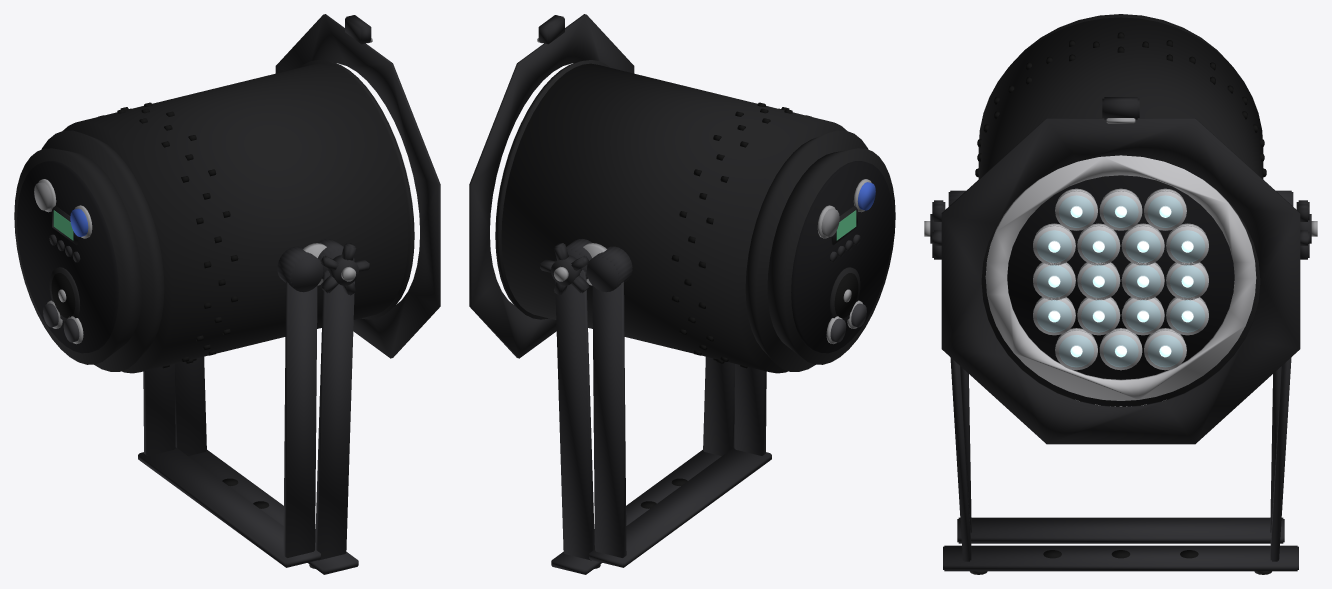
The picture shows the model from 3 angles, left to right: view 1: azimuth 30°, elevation 25°; view 2: azimuth 150°, elevation 25°; view 3: azimuth 270°, elevation 25°; orthographic projection. The views are drawn at different scales.
Parts seen in each view (by area): view 1: CX_Barrel, CX_YokeInner, CX_YokeOuter, CX_GelFrame, CX_RearPlate, CX_RearCap, CX_RearNeck, CX_FrontLip, CX_FanDark, CX_GelClip; view 2: CX_Barrel, CX_YokeInner, CX_YokeOuter, CX_GelFrame, CX_RearPlate, CX_RearCap, CX_RearNeck, CX_FrontLip, CX_FanDark, CX_GelClip; view 3: CX_GelFrame, CX_Barrel, CX_ChromeRing, CX_YokeOuter, CX_LedPlate, CX_YokeInner, CX_FrontLip, CX_CupRim_4, CX_CupRim_5, CX_CupRim_15, CX_CupRim_17, CX_CupRim_0 (+33 smaller).
Part boxes in pixels (box(x1,y1,x2,y2)): CX_Barrel: box(63, 63, 408, 373); CX_YokeInner: box(138, 246, 323, 567); CX_YokeOuter: box(175, 239, 358, 574); CX_GelFrame: box(275, 14, 440, 358); CX_RearPlate: box(17, 161, 118, 353); CX_RearCap: box(14, 148, 142, 364); CX_RearNeck: box(41, 130, 164, 371); CX_FrontLip: box(300, 60, 414, 319); CX_FanDark: box(51, 273, 75, 318); CX_GelClip: box(345, 15, 371, 44); CX_Barrel: box(501, 63, 846, 373); CX_YokeInner: box(586, 246, 771, 567); CX_YokeOuter: box(551, 239, 734, 574); CX_GelFrame: box(469, 14, 634, 358); CX_RearPlate: box(791, 161, 892, 353); CX_RearCap: box(767, 148, 895, 364); CX_RearNeck: box(745, 130, 868, 371); CX_FrontLip: box(495, 60, 609, 319); CX_FanDark: box(834, 273, 858, 318); CX_GelClip: box(538, 15, 564, 44); CX_GelFrame: box(941, 118, 1300, 444); CX_Barrel: box(978, 17, 1263, 178); CX_ChromeRing: box(985, 155, 1256, 400); CX_YokeOuter: box(943, 357, 1298, 571); CX_LedPlate: box(1007, 175, 1234, 379); CX_YokeInner: box(948, 190, 1293, 543); CX_FrontLip: box(981, 191, 1260, 406); CX_CupRim_4: box(1077, 225, 1120, 265); CX_CupRim_5: box(1121, 225, 1164, 265); CX_CupRim_15: box(1055, 330, 1097, 370); CX_CupRim_17: box(1144, 330, 1186, 370); CX_CupRim_0: box(1055, 190, 1097, 230).
Bounding box in the file's own units: 0.2749 × 0.403 × 0.2765.
